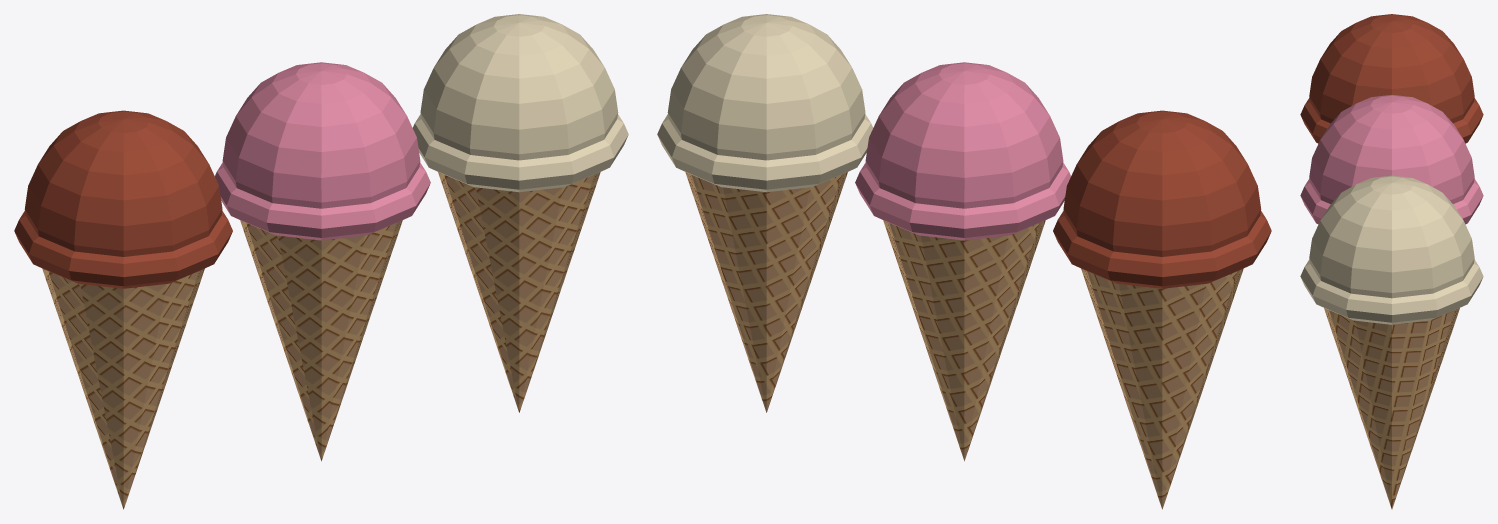
3 renders of one model, left to right at view 1: azimuth 30°, elevation 25°; view 2: azimuth 150°, elevation 25°; view 3: azimuth 270°, elevation 25°, orthographic. The views are drawn at different scales.
Parts seen in each view (by area): view 1: Node; view 2: Node; view 3: Node.
Boxes of the visible parts, <box> form: Node: <box>14,14,628,509</box>; Node: <box>657,14,1271,509</box>; Node: <box>1300,14,1483,509</box>.
Size of the model in its own units: 4.54 by 2.89 by 1.47.
Materials: 4 (1 with a texture image).
